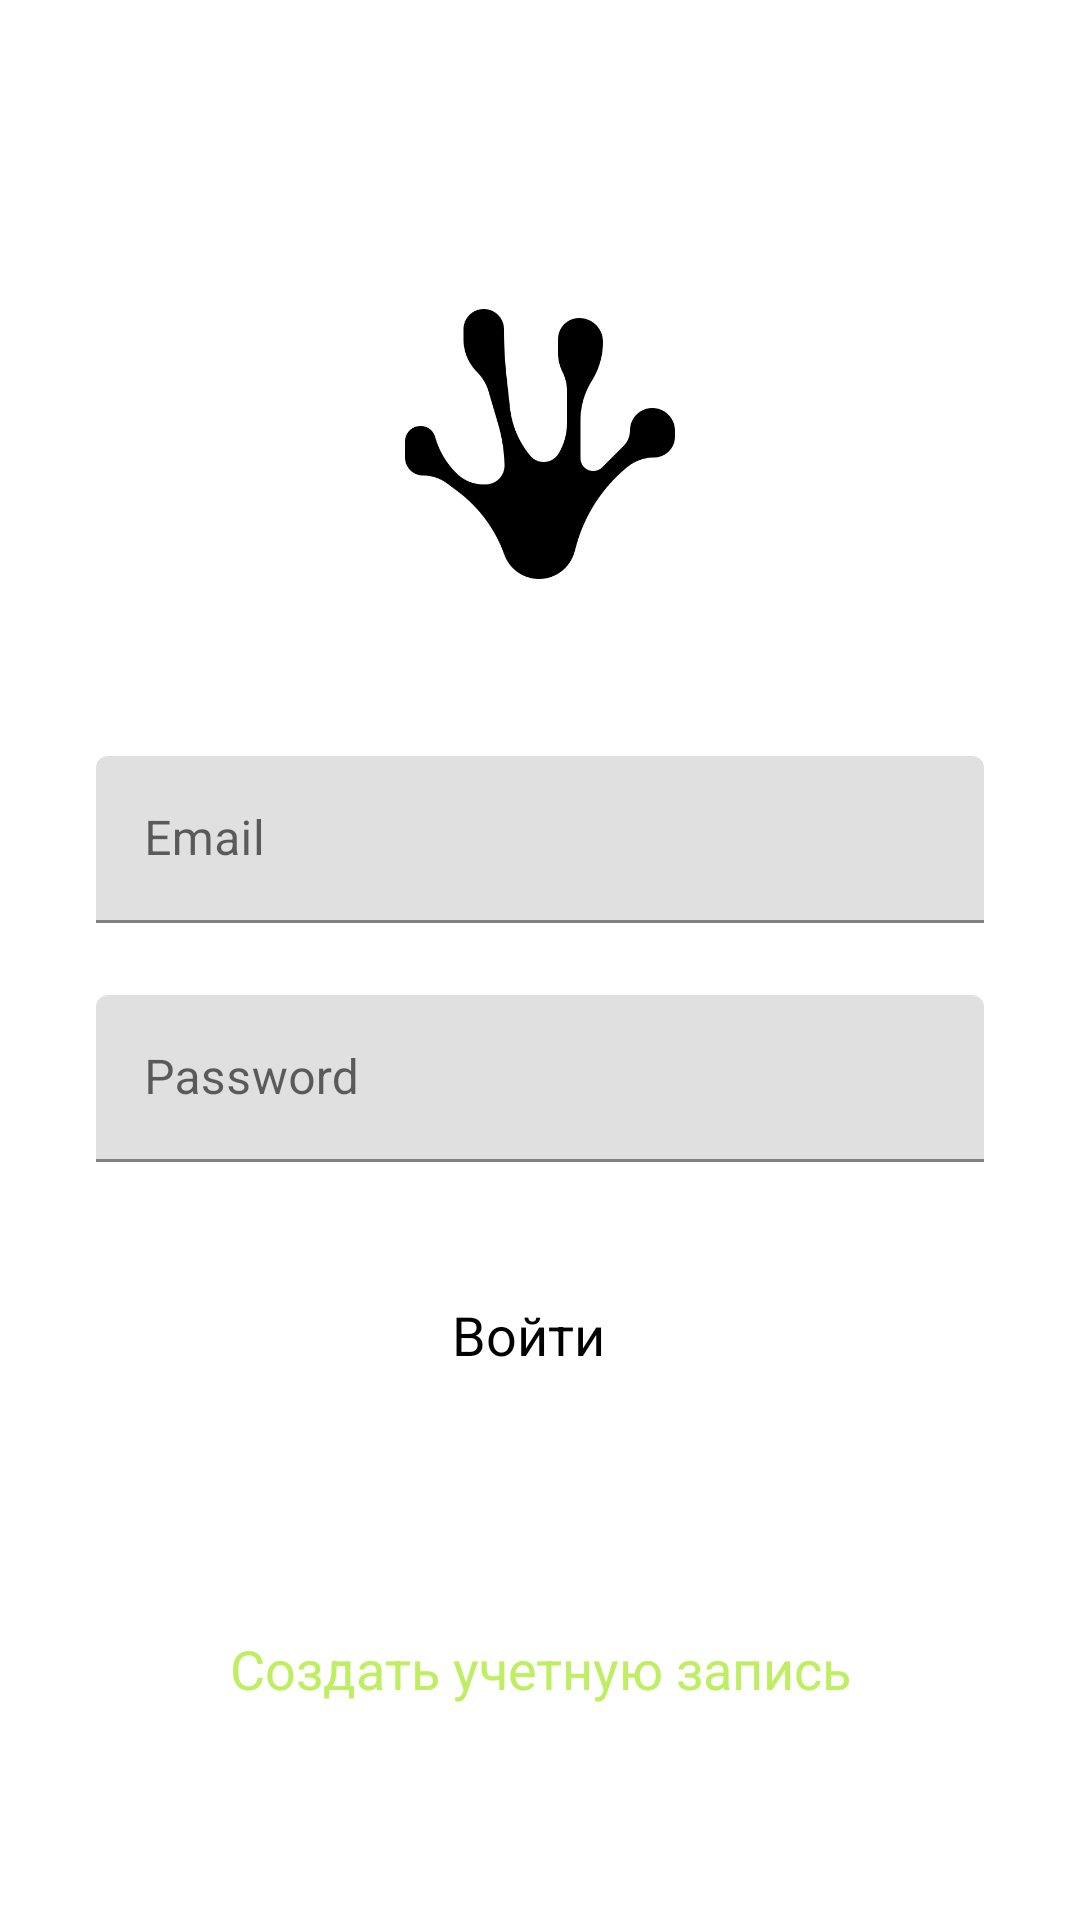

Named icons in this screenshot (1080px x 1920px) and their centers, (x=x, y=y):
frog: (x=540, y=444)
